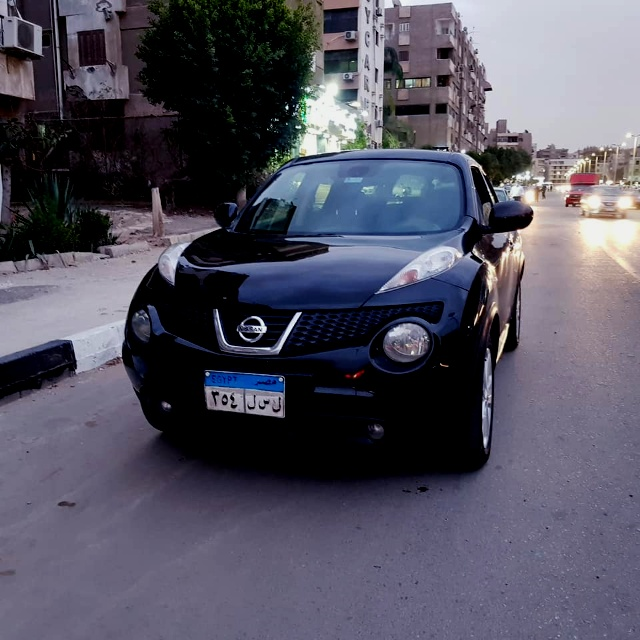License Plate: (201, 369, 287, 421)
